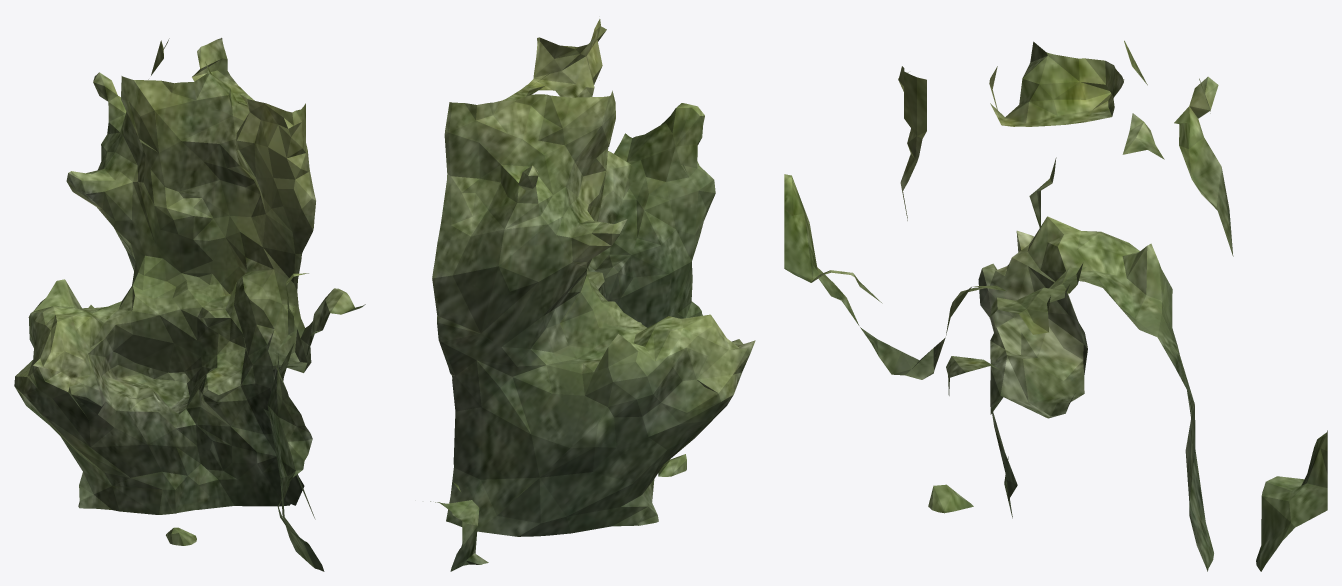
3 views of the same model, side by side, from view 1: azimuth 30°, elevation 25°; view 2: azimuth 150°, elevation 25°; view 3: azimuth 270°, elevation 25° (orthographic). The views are drawn at different scales.
Size of the model in its own units: 3.39 by 5.9 by 5.9.
3 materials, 3 textured.
